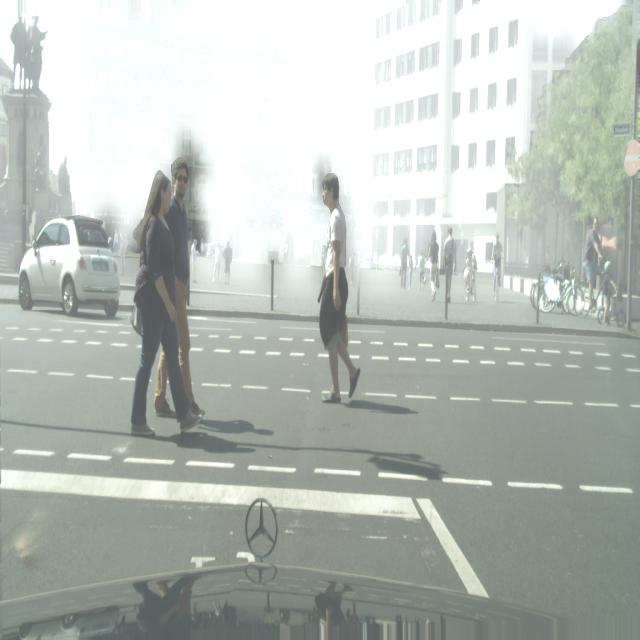car: (530, 262, 577, 314), (596, 265, 625, 327), (461, 239, 481, 309)
person: (130, 166, 201, 436), (155, 159, 204, 422), (318, 172, 361, 405), (582, 218, 604, 314), (442, 226, 455, 303), (426, 230, 440, 301), (492, 232, 504, 298), (400, 236, 409, 289), (223, 239, 232, 286), (212, 242, 222, 282), (418, 247, 426, 289), (119, 234, 127, 274), (191, 239, 198, 282), (408, 252, 414, 289)
truck: (18, 216, 120, 319)
